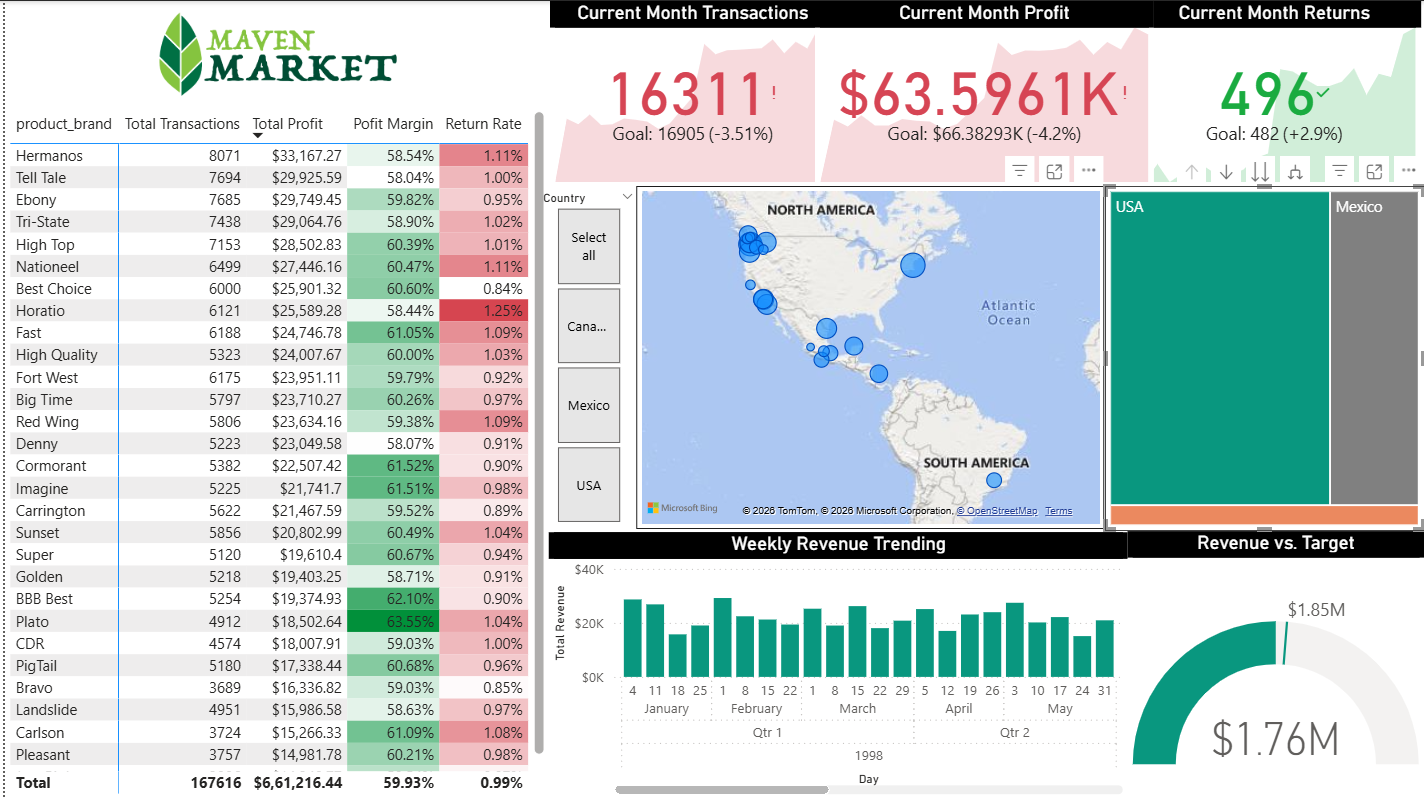

This screenshot's page, from the dashboard's own definition file:
{"tool":"powerbi","page":{"name":"Topline Performance ","canvas":[1280,720],"ordinal":0},"visuals":[{"type":"pivotTable","fields":{"Values":["Transaction Data.Total Tansactions","Transaction Data.Total Profit","Transaction Data.Pofit Margin","Return_Data.Return Rate"],"Rows":["Products.product_brand"]},"box":[0,95,491,625],"z":0},{"type":"kpi","title":"Current Month Transactions","fields":{"TrendLine":["Calendar.Start of Month"],"Goal":["Calendar.Last Month Transaction"],"Indicator":["Transaction Data.Total Transactions"]},"box":[491,0,257.8,168.5],"z":1000},{"type":"kpi","title":"Current Month Returns","fields":{"TrendLine":["Calendar.Start of Month"],"Goal":["Return_Data.Last Month Returns"],"Indicator":["Return_Data.Total Returns"]},"box":[1012.3,0,265,168.5],"z":2000},{"type":"kpi","title":"Current Month Profit","fields":{"TrendLine":["Calendar.Start of Month"],"Indicator":["Transaction Data.Total Profit"],"Goal":["Transaction Data.Last Month Profit"]},"box":[730,0,305.7,168.6],"z":3000},{"type":"map","fields":{"Size":["Transaction Data.Total Transactions"],"Category":["Stores.City"]},"box":[568.8,167,423.4,309.6],"z":4000},{"type":"slicer","fields":{"Values":["Stores.Country"]},"box":[472.3,165.6,106.6,311],"z":5000},{"type":"treemap","fields":{"Values":["Transaction Data.Total Transactions"],"Group":["Stores.Country","Stores.State","Stores.City"]},"box":[992.2,167,288,311],"z":6000},{"type":"columnChart","title":"Weekly Revenue Trending","fields":{"Y":["Transaction Data.Total Revenue"],"Category":["Calendar.Start of Week.Variation.Date Hierarchy.Year","Calendar.Start of Week.Variation.Date Hierarchy.Quarter","Calendar.Start of Week.Variation.Date Hierarchy.Month","Calendar.Start of Week.Variation.Date Hierarchy.Day"]},"box":[490,478.6,522.9,241.4],"z":7000},{"type":"gauge","title":"Revenue vs. Target","fields":{"Y":["Transaction Data.Total Revenue"],"TargetValue":["Transaction Data.Revenue Target"]},"box":[1012.3,478.1,267.8,241.9],"z":8000},{"type":"image","box":[0,0,430.2,95.3],"z":9000},{"type":"textbox","box":[0,0,490.1,94.5],"z":10000},{"type":"image","box":[0,0,490.1,95.8],"z":10001}]}

Visuals, with their boxes in screenshot pixels (x1, y1, x2, y2), scaled from the page's 1280x720 canvas onto the 1424x798 screenshot:
pivotTable - Transaction Data.Total Tansactions x Transaction Data.Total Profit: (x1=0, y1=105, x2=546, y2=797)
"Current Month Transactions" kpi: (x1=546, y1=0, x2=833, y2=187)
"Current Month Returns" kpi: (x1=1126, y1=0, x2=1421, y2=187)
"Current Month Profit" kpi: (x1=812, y1=0, x2=1152, y2=187)
map - Transaction Data.Total Transactions x Stores.City: (x1=633, y1=185, x2=1104, y2=528)
slicer - Stores.Country: (x1=525, y1=184, x2=644, y2=528)
treemap - Transaction Data.Total Transactions x Stores.Country: (x1=1104, y1=185, x2=1423, y2=530)
"Weekly Revenue Trending" columnChart: (x1=545, y1=530, x2=1127, y2=797)
"Revenue vs. Target" gauge: (x1=1126, y1=530, x2=1423, y2=797)
image: (x1=0, y1=0, x2=479, y2=106)
textbox: (x1=0, y1=0, x2=545, y2=105)
image: (x1=0, y1=0, x2=545, y2=106)
